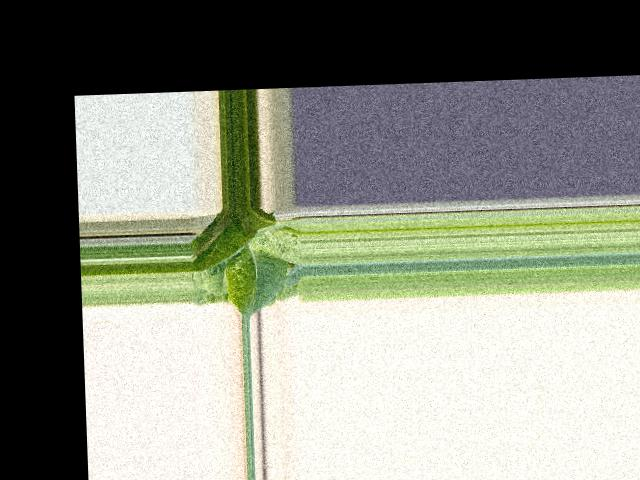lettuce: (191, 205, 293, 311)
